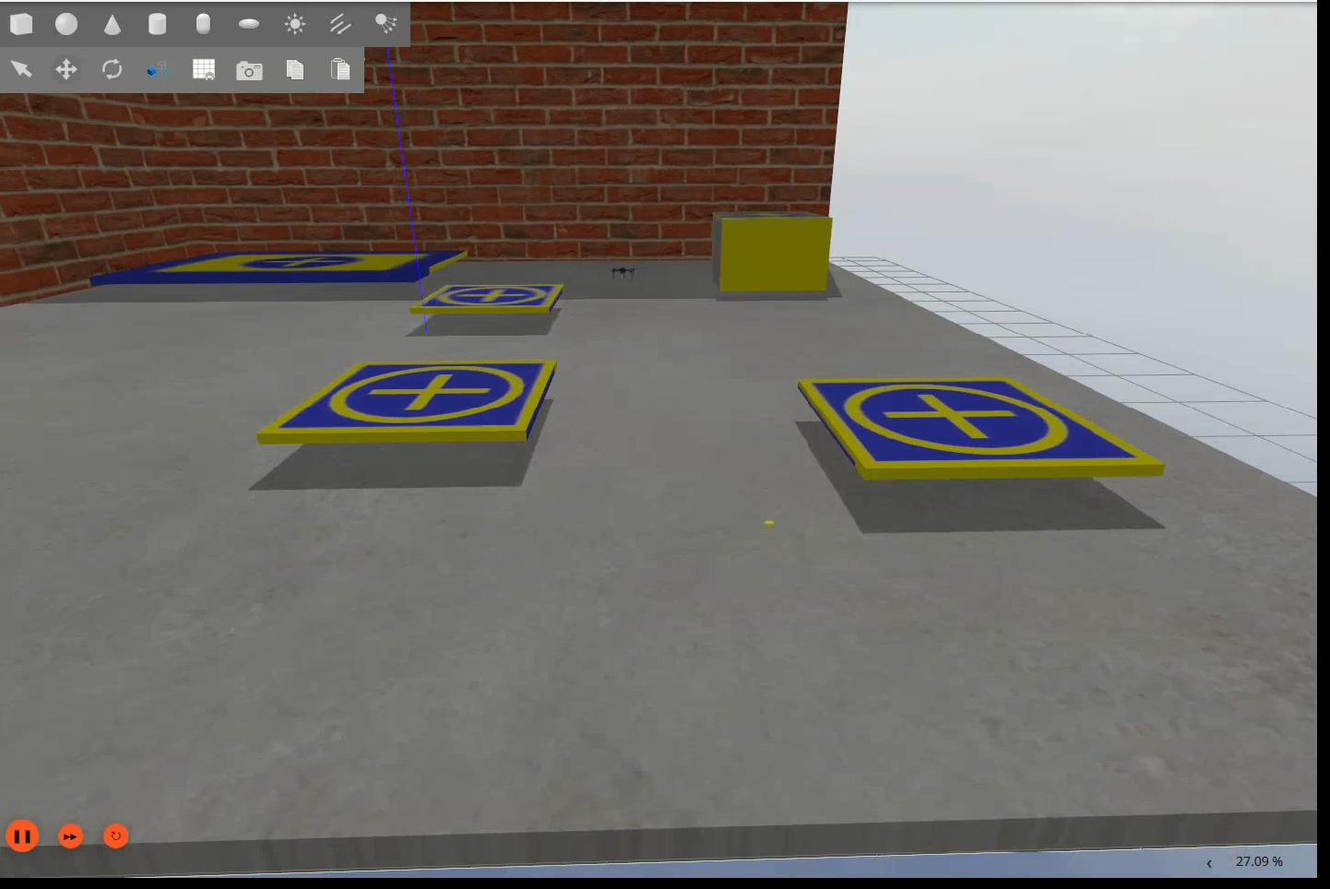large_base: (96, 248, 469, 285)
small_base: (797, 377, 1167, 486), (258, 361, 562, 444), (413, 286, 571, 322)
